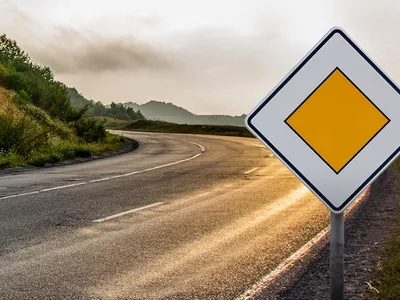priority_road: (259, 45, 400, 195)
